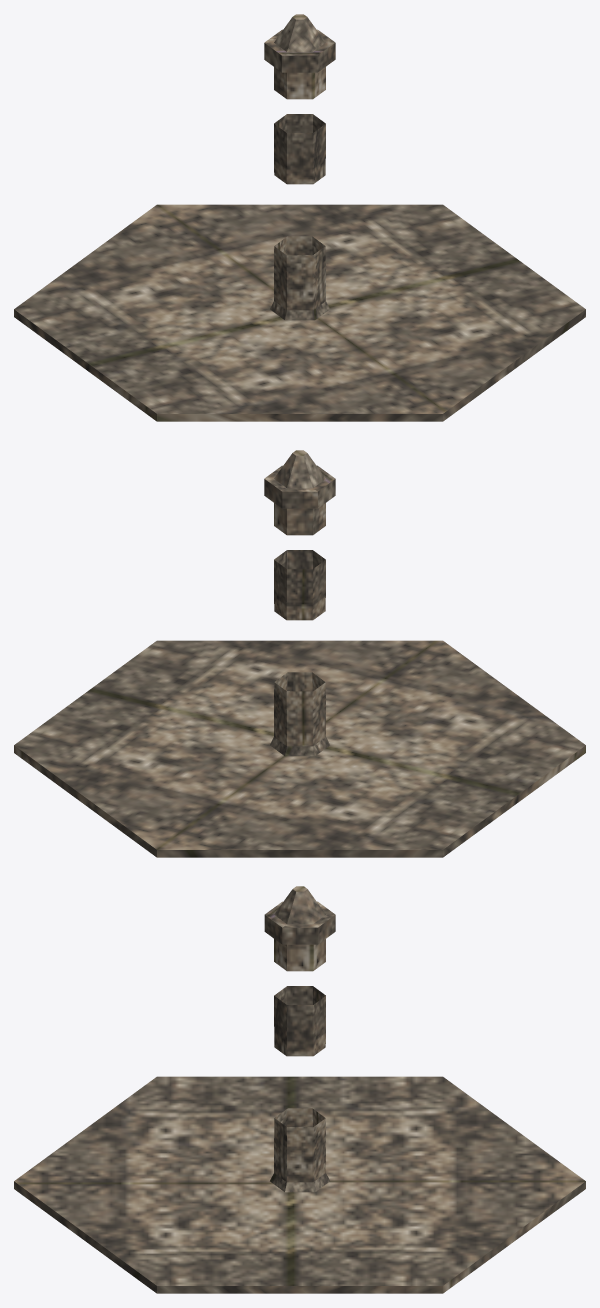
File: f_reel2_part2.fbx
3 renders of one model, top to bottom at view 1: azimuth 30°, elevation 25°; view 2: azimuth 150°, elevation 25°; view 3: azimuth 270°, elevation 25°, orthographic.
Parts seen in each view (by area): view 1: Cylinder; view 2: Cylinder; view 3: Cylinder.
Part boxes in pixels (box(x1,y1,x2,y2)): Cylinder: box(14, 14, 585, 421); Cylinder: box(14, 450, 585, 857); Cylinder: box(14, 886, 585, 1293).
Bounding box in the file's own units: 796 × 532 × 919.
